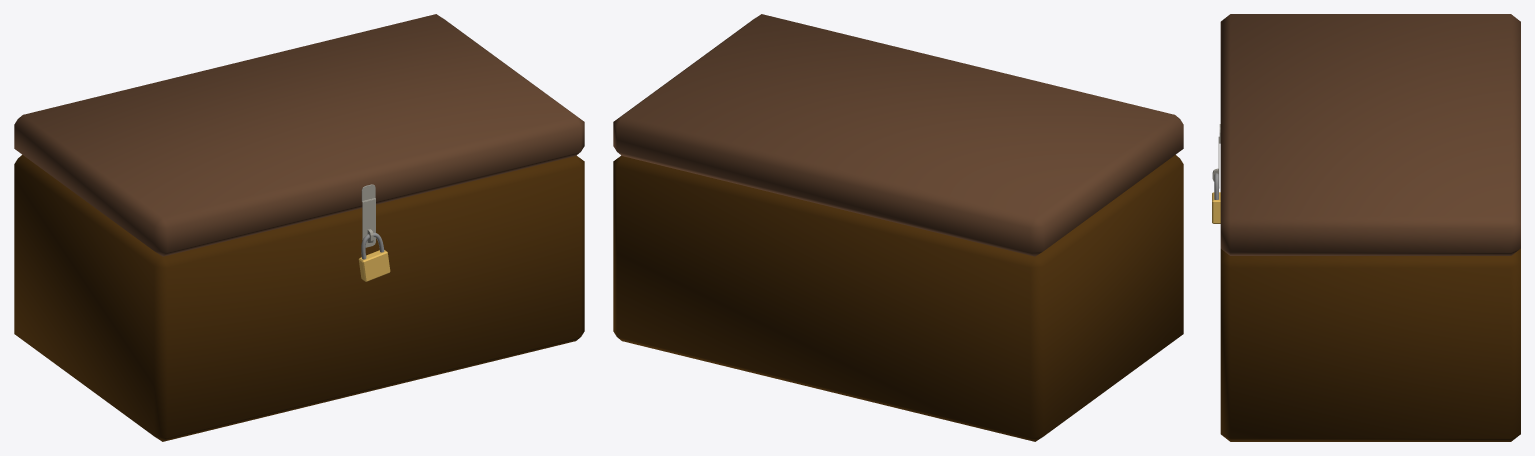
Rendered from Bau.fbx.
3 renders of one model, left to right at view 1: azimuth 30°, elevation 25°; view 2: azimuth 150°, elevation 25°; view 3: azimuth 270°, elevation 25°, orthographic.
Visible parts, largest first — view 1: Cube.004, Cube.005, Base Cadeado.002, Fechadura03.002; view 2: Cube.004, Cube.005; view 3: Cube.005, Cube.004.
Boxes of the visible parts, x1,y1,x2,y2 form: Cube.004: (14,155,584,441); Cube.005: (14,14,584,256); Base Cadeado.002: (358,250,390,281); Fechadura03.002: (362,199,375,247); Cube.004: (613,155,1183,441); Cube.005: (613,14,1183,256); Cube.005: (1220,14,1520,255); Cube.004: (1220,248,1520,441).
Bounding box in the file's own units: 127 × 63.21 × 78.45.
